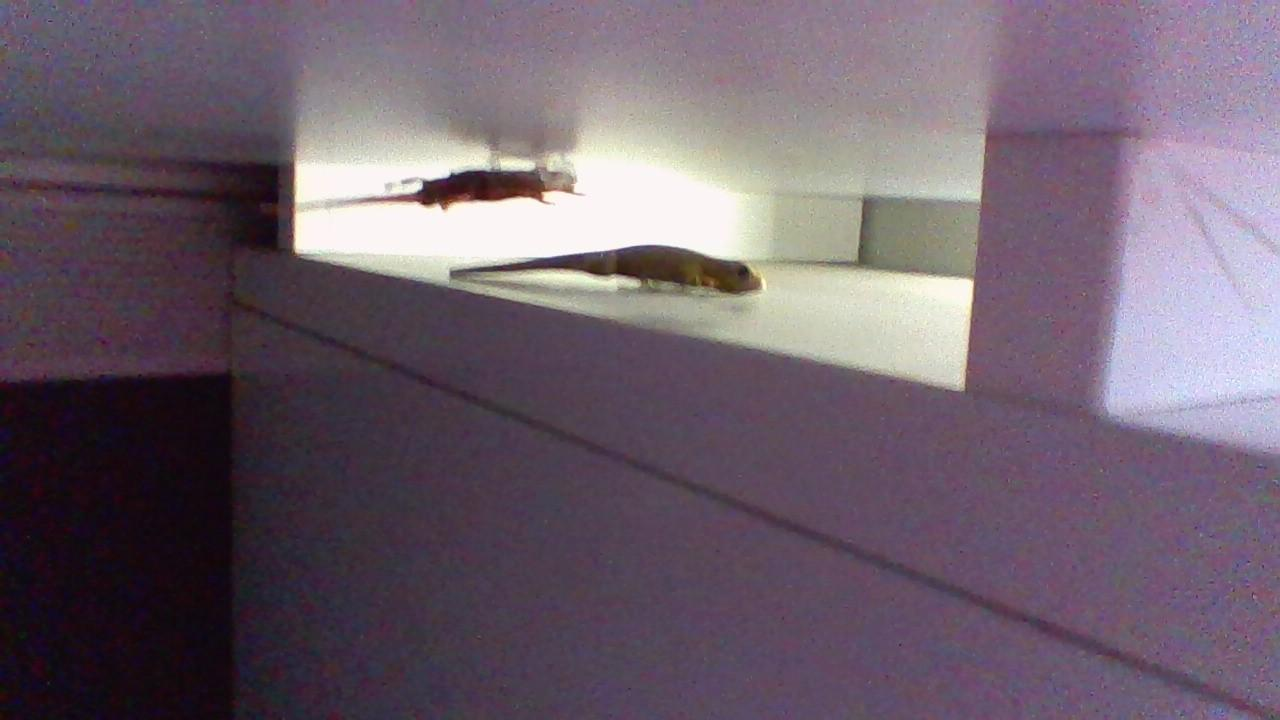cockroach: (277, 157, 640, 237)
lizard: (432, 238, 792, 330)
